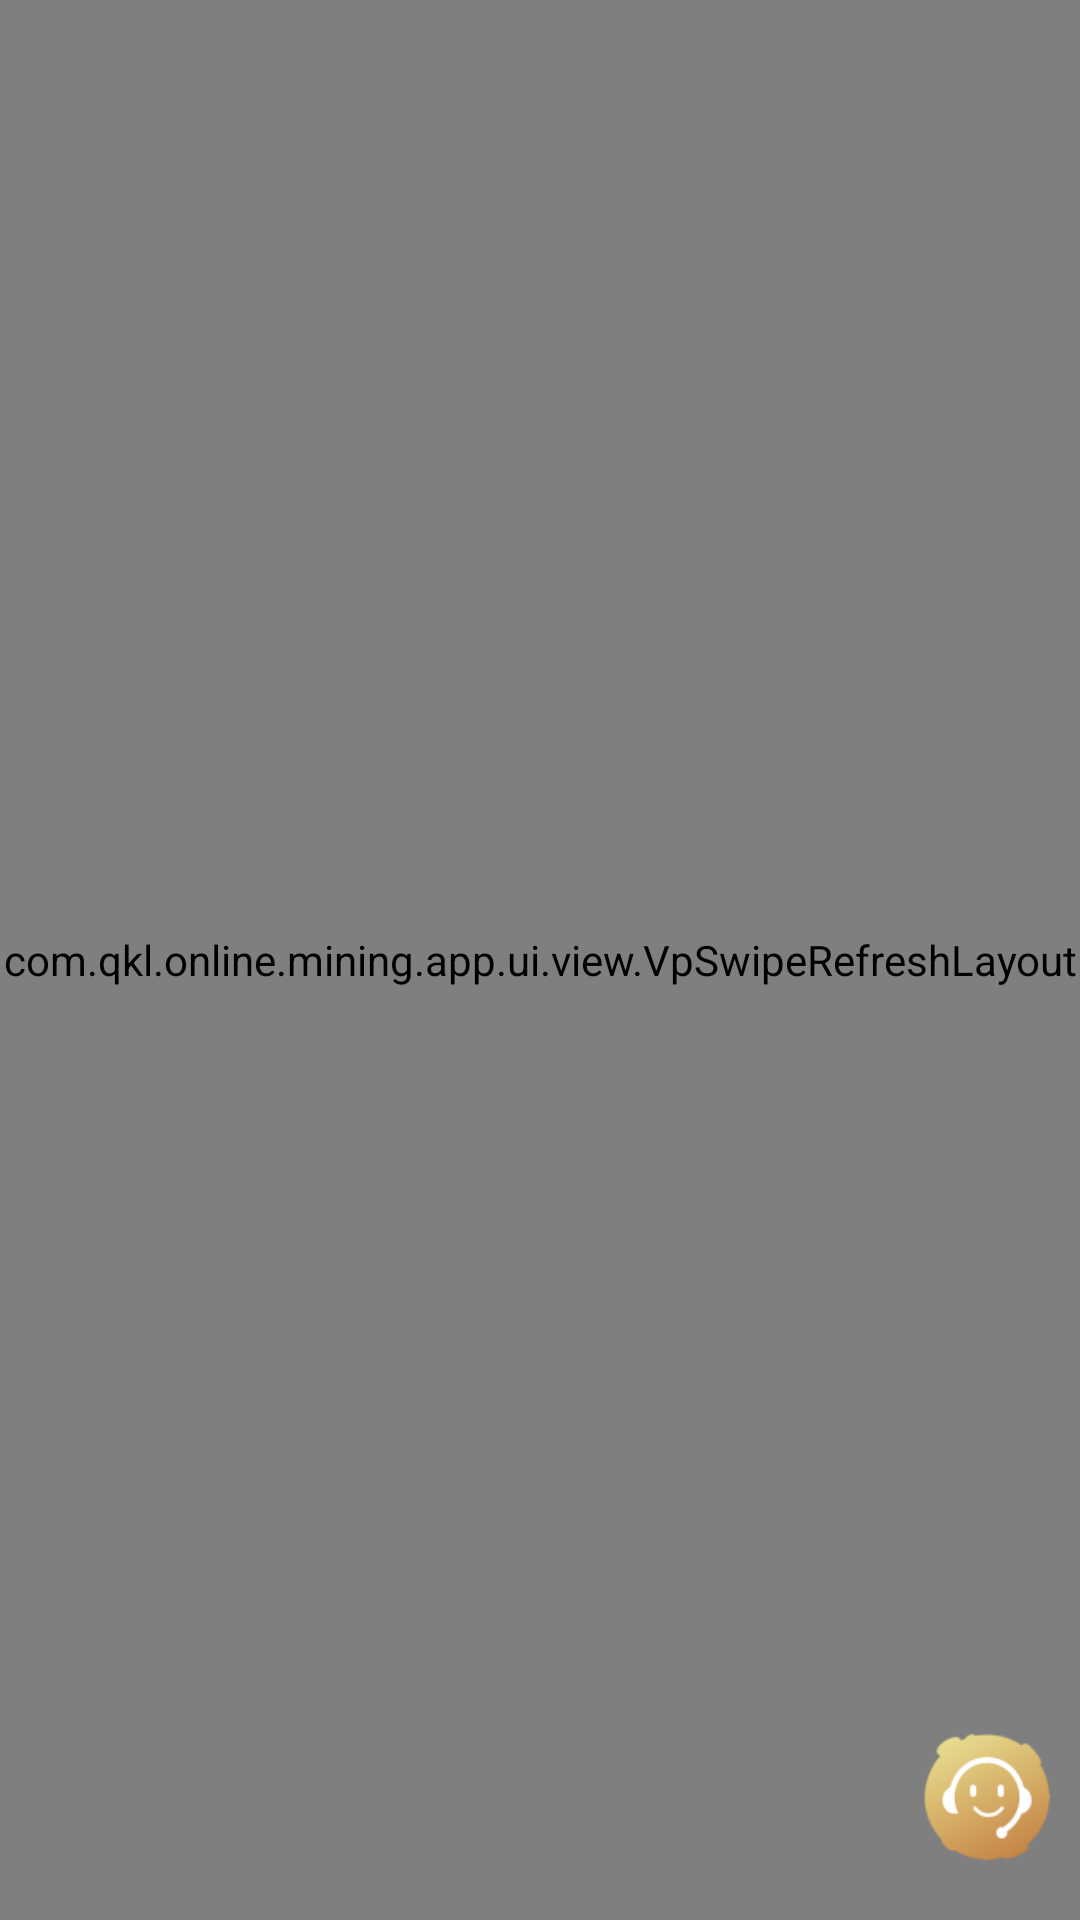

Point at icon controls on the screen. Image size 1080 x 1920, points as (x=x, y=y).
home kefu: (x=987, y=1797)
